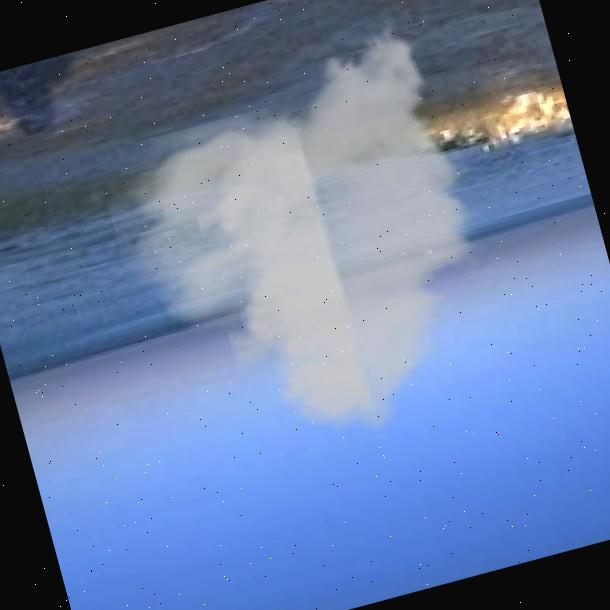smoke: (77, 0, 536, 495)
